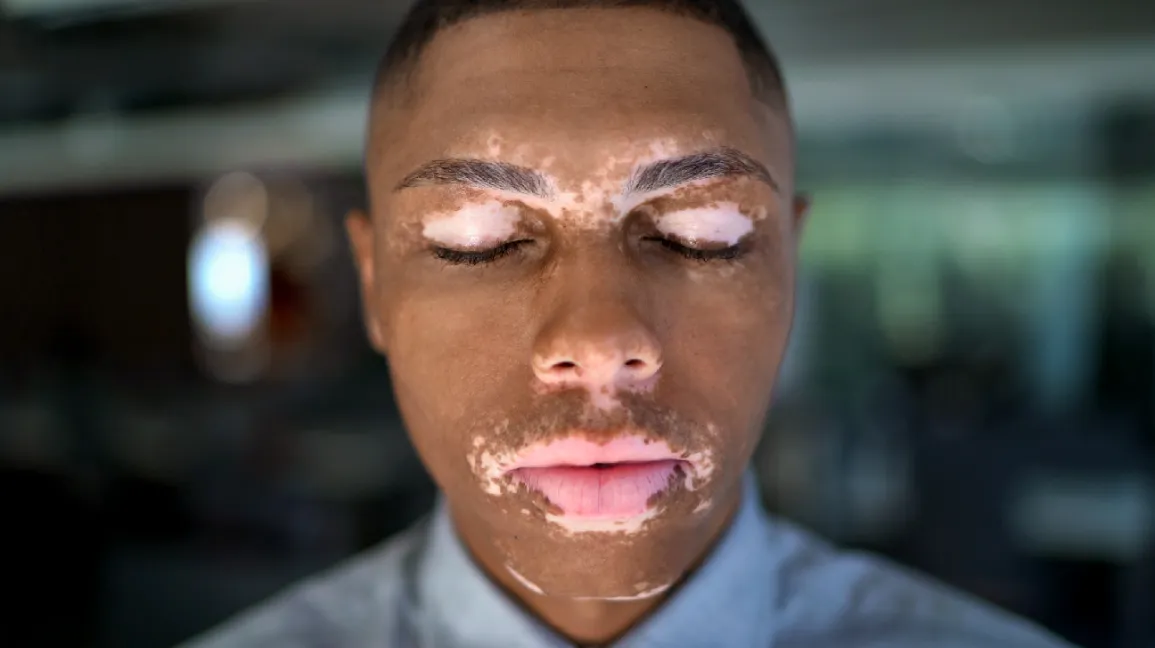Vitiligo: (456, 331, 730, 600), (406, 123, 773, 276)
